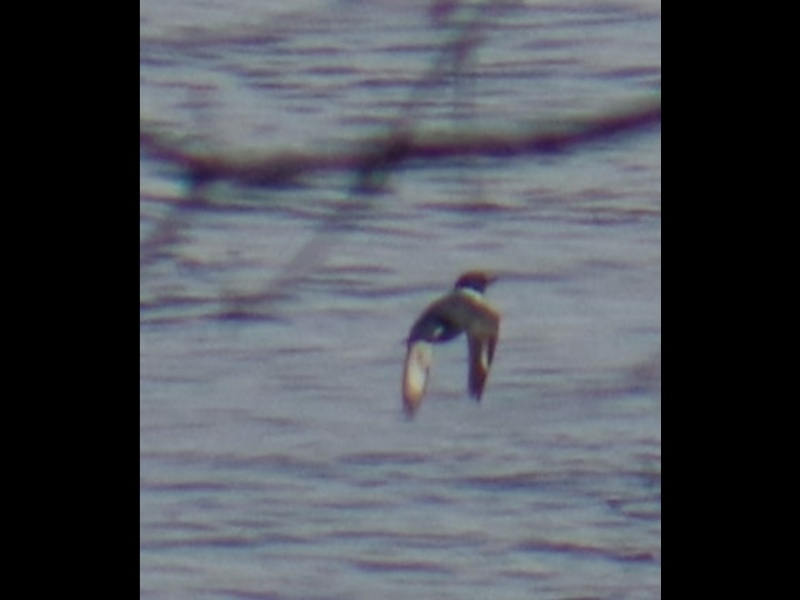kingfisher: (398, 268, 504, 426)
